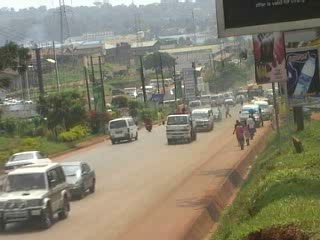Car: (0, 163, 71, 229), (60, 160, 102, 203), (4, 149, 55, 180), (211, 106, 226, 123), (221, 97, 235, 107)
Motorcycle: (142, 117, 153, 133)
